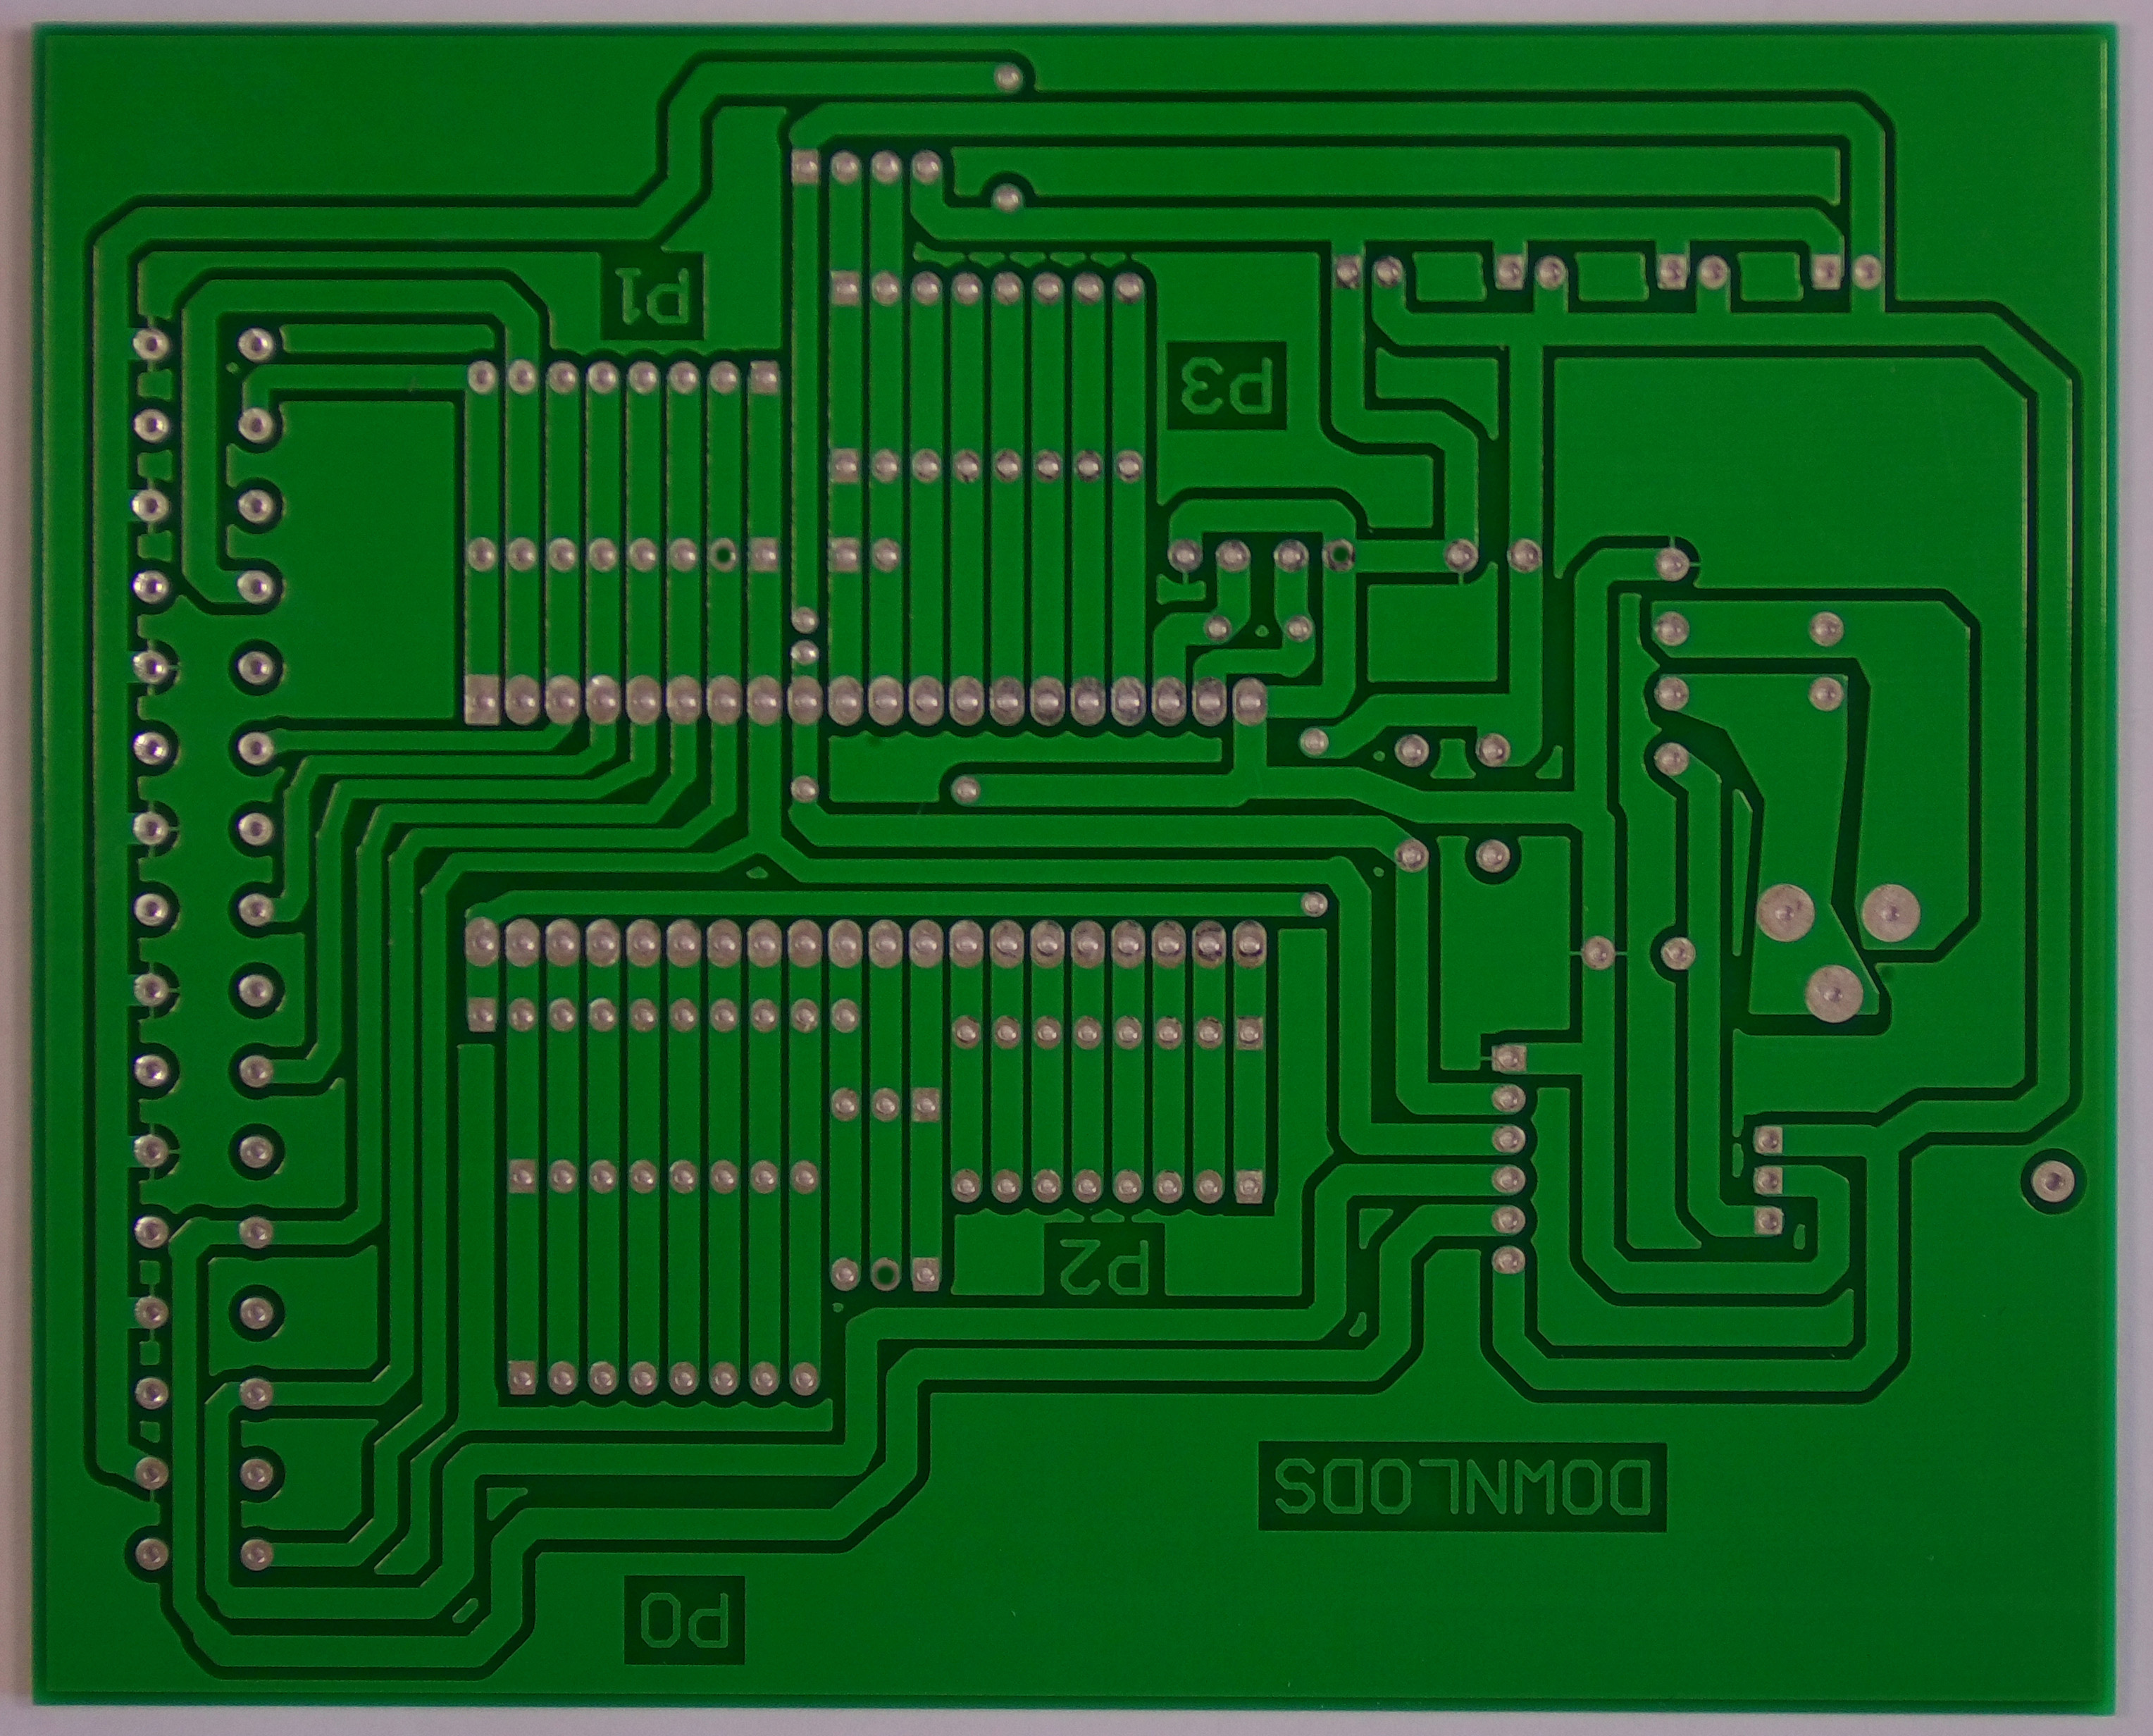missing_hole: (865, 1248, 905, 1297), (702, 535, 743, 576), (1322, 533, 1360, 574)
